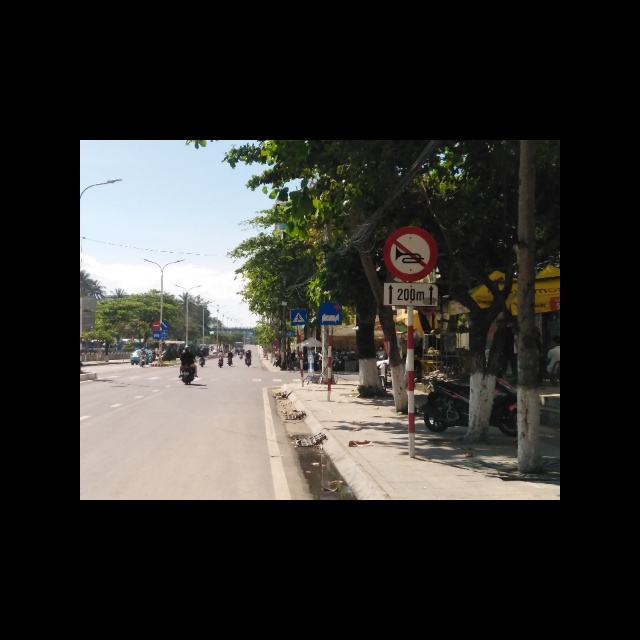Bệnh viện: (320, 303, 343, 325)
Cấm bấm còi: (385, 228, 439, 281)
Đường dành cho người đi bộ: (290, 307, 308, 325)
